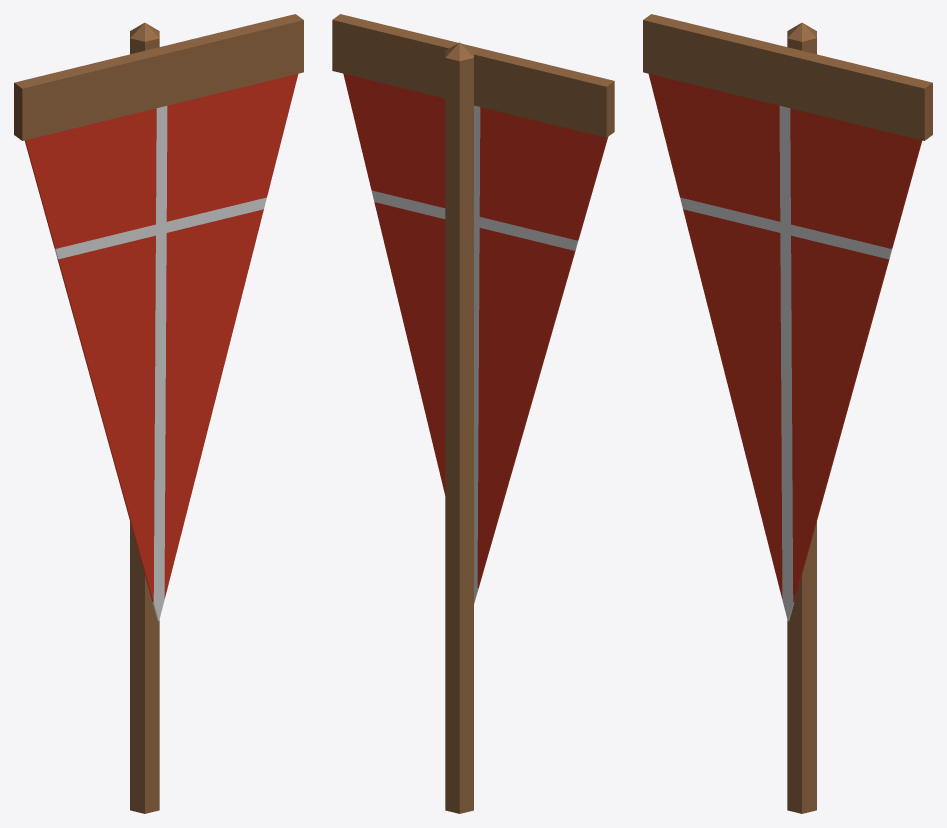
Rendered from Player_flag_red_2_mat.fbx.
3 views of the same model, side by side, from view 1: azimuth 30°, elevation 25°; view 2: azimuth 150°, elevation 25°; view 3: azimuth 330°, elevation 25° (orthographic). The views are drawn at different scales.
Visible parts, largest first — view 1: Player_flag_red_2_mat; view 2: Player_flag_red_2_mat; view 3: Player_flag_red_2_mat.
Boxes of the visible parts, x1,y1,x2,y2 form: Player_flag_red_2_mat: (14,14,303,813); Player_flag_red_2_mat: (332,14,614,813); Player_flag_red_2_mat: (643,14,932,813).
Bounding box in the file's own units: 0.7631 × 2.03 × 0.1204.
